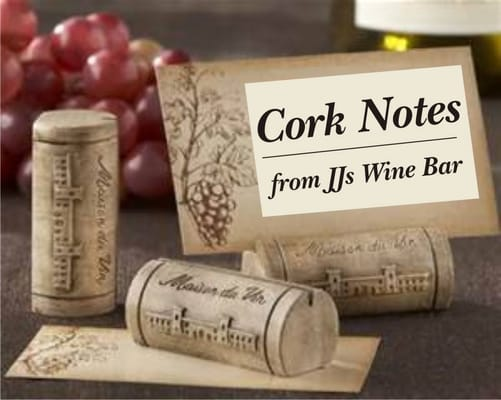steak: (49, 11, 132, 72)
